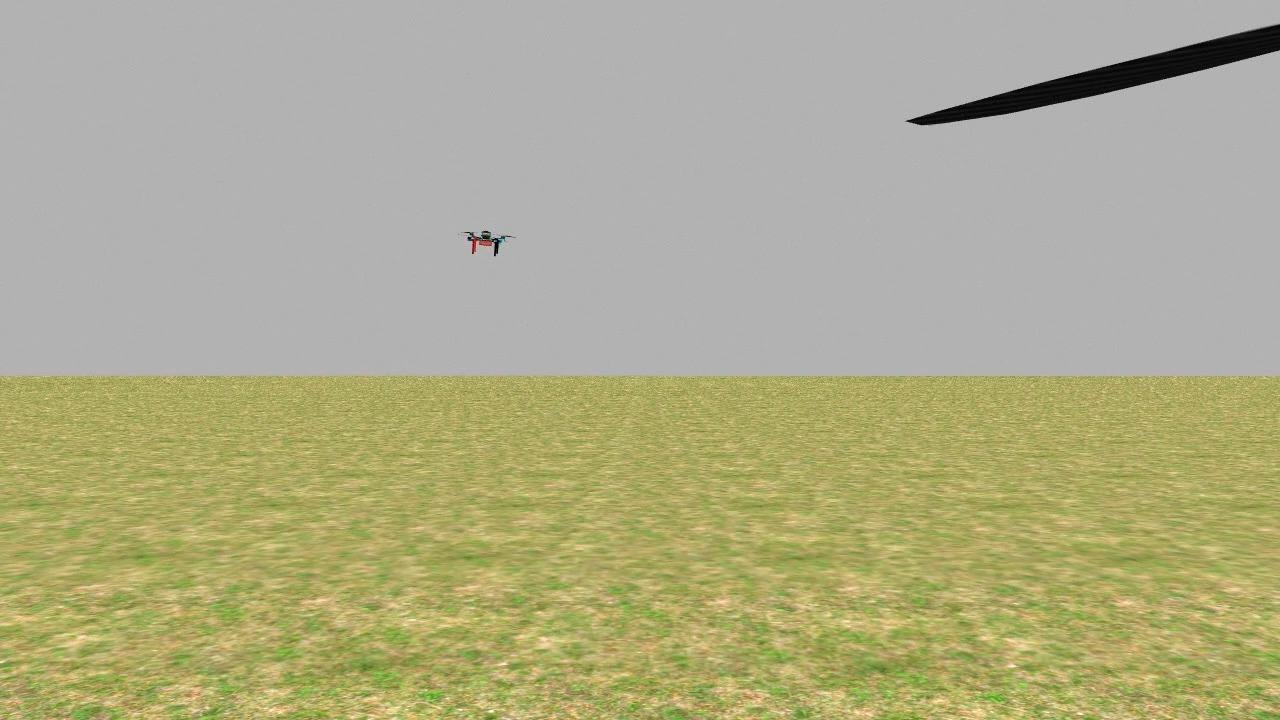UAV: (448, 219, 523, 269)
